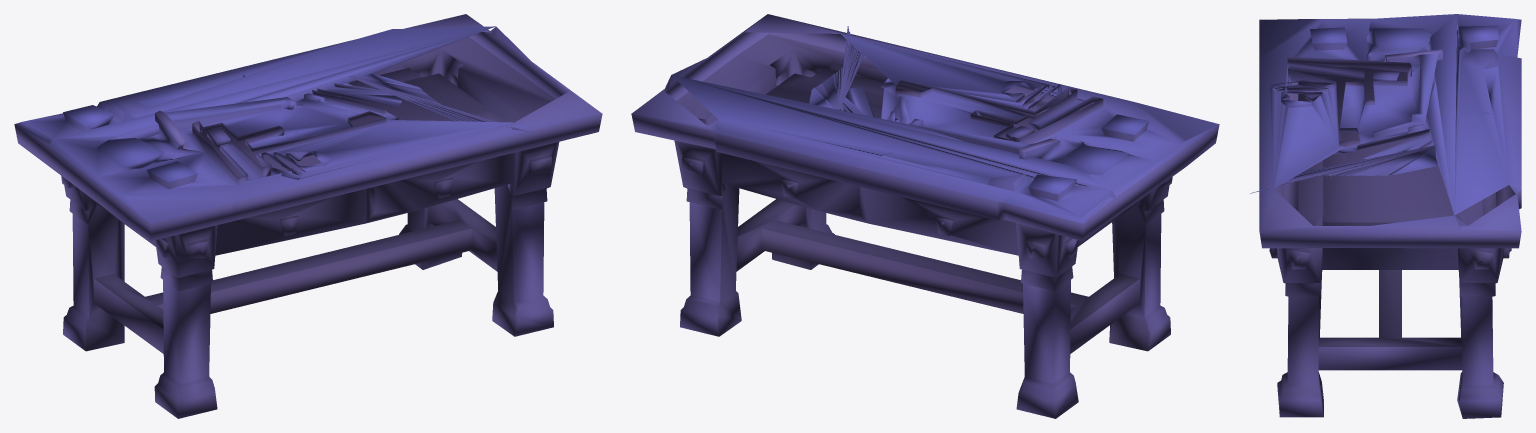
The model's file is model.progressive.glb.
3 renders of one model, left to right at view 1: azimuth 30°, elevation 25°; view 2: azimuth 150°, elevation 25°; view 3: azimuth 270°, elevation 25°, orthographic. The views are drawn at different scales.
Visible parts, largest first — view 1: mesh_input; view 2: mesh_input; view 3: mesh_input.
Part boxes in pixels (x1,y1,x2,y2): mesh_input: (14, 14, 602, 418); mesh_input: (631, 14, 1219, 418); mesh_input: (1250, 14, 1521, 418).
Bounding box in the file's own units: 1.88 × 0.92 × 1.03.
1 material, 1 textured.
